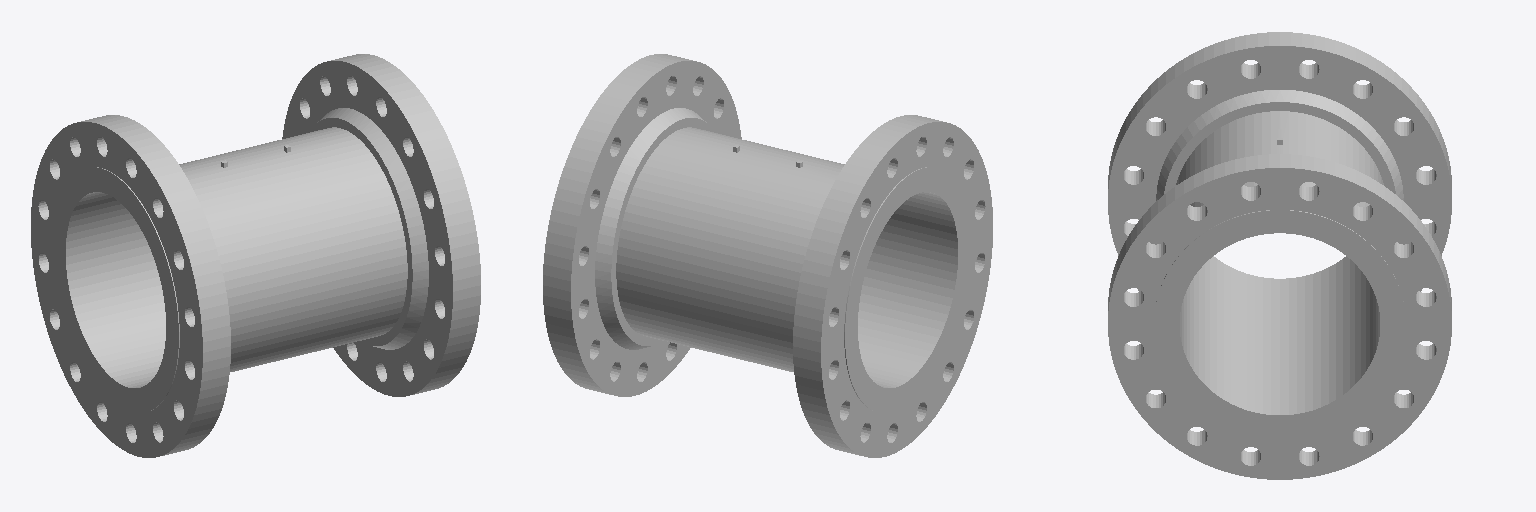
3 renders of one model, left to right at view 1: azimuth 30°, elevation 25°; view 2: azimuth 150°, elevation 25°; view 3: azimuth 270°, elevation 25°, orthographic.
Visible parts, largest first — view 1: <STL_BINARY>; view 2: <STL_BINARY>; view 3: <STL_BINARY>.
Part boxes in pixels (left/top/right/bottom): <STL_BINARY>: left=31, top=54, right=480, bottom=457; <STL_BINARY>: left=543, top=54, right=992, bottom=457; <STL_BINARY>: left=1108, top=32, right=1451, bottom=479.
Size of the model in its own units: 489 by 521 by 521.